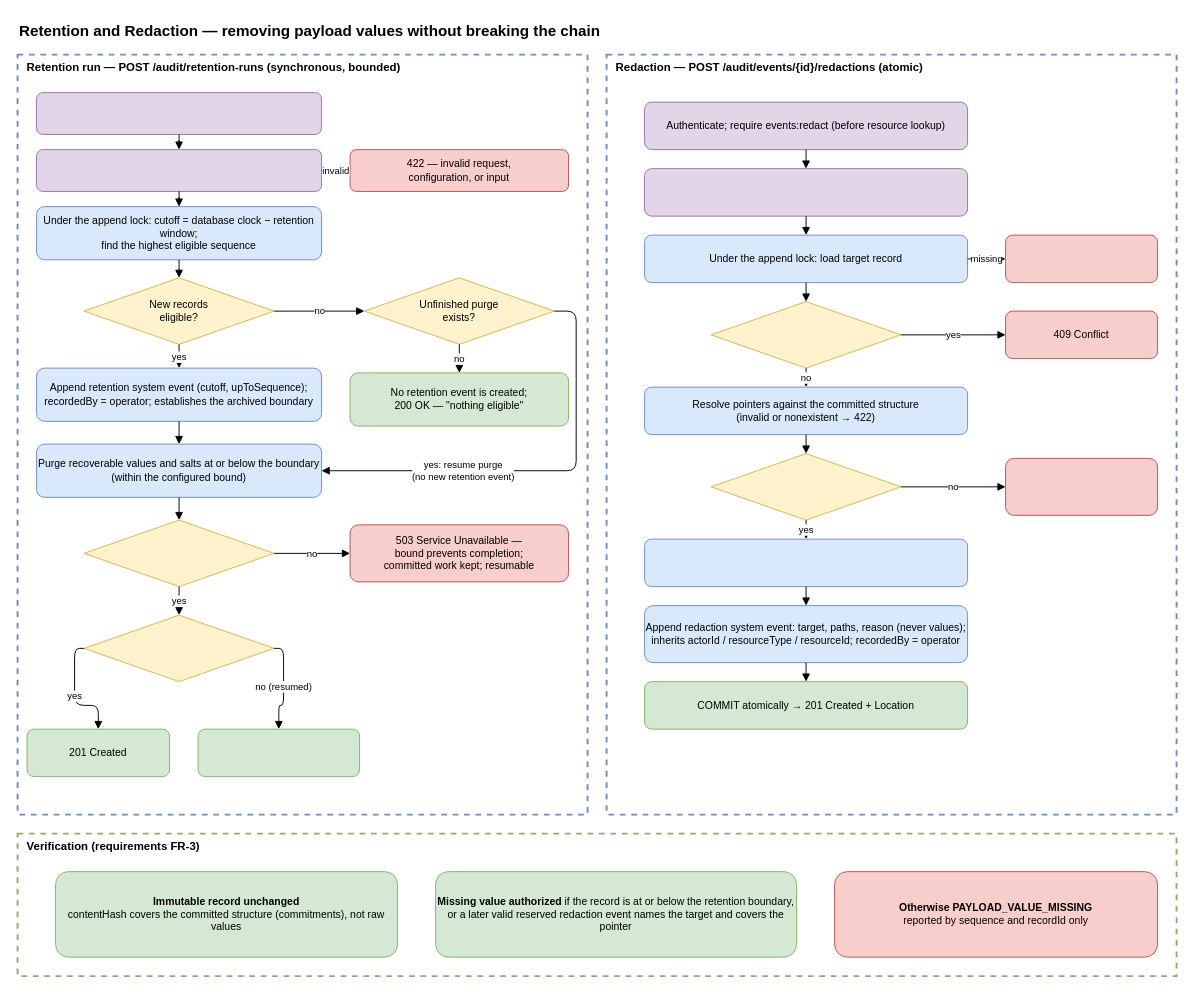
Image size: 1193x993. Some labels were removed from this diagram. The shapes that lost their labels are listed below. From the top down, each one's centre as x and y in pixels, then its label:
At [179,113]: "Authenticate; require retention:run (before resource lookup)".
At [179,170]: "Validate request and configuration".
At [806,192]: "Validate JSON Pointers and reason (422, errors identified by position)".
At [1081,258]: "404 Not Found".
At [805,334]: "System event or archived?".
At [805,486]: "Any covered value still present?".
At [1081,486]: "409 Conflict (nothing new; no event)".
At [178,553]: "Completed within the bound?".
At [806,562]: "Delete covered value and salt rows (only values not yet redacted)".
At [178,648]: "New retention event recorded in this run?".
At [278,752]: "200 OK — resumed purge completed".
